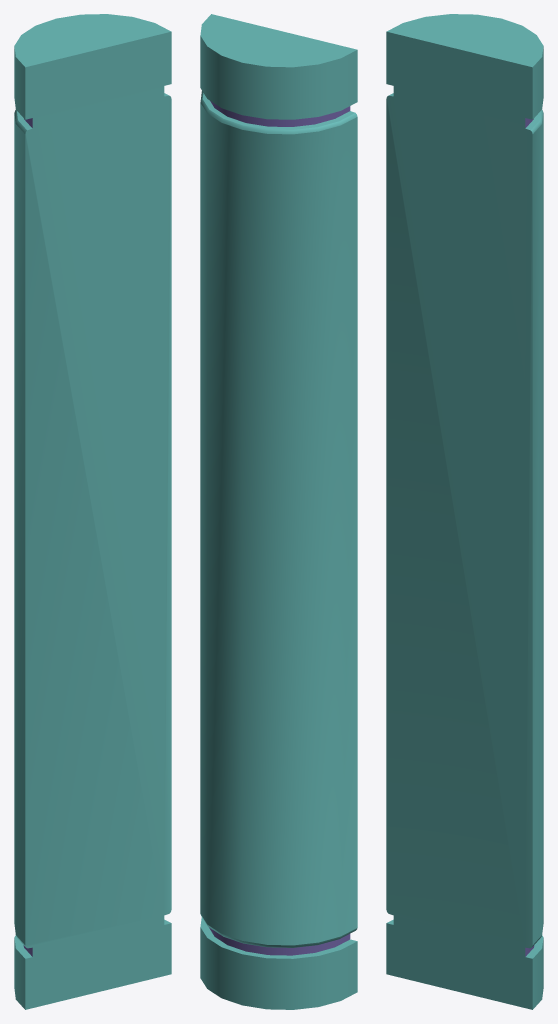
File: 90sArcade_Pillar_Half.fbx
3 renders of one model, left to right at view 1: azimuth 30°, elevation 25°; view 2: azimuth 150°, elevation 25°; view 3: azimuth 330°, elevation 25°, orthographic.
Parts seen in each view (by area): view 1: Pillar_90sArcade.002; view 2: Pillar_90sArcade.002; view 3: Pillar_90sArcade.002.
Part boxes in pixels (x1,y1,x2,y2): Pillar_90sArcade.002: [14, 14, 171, 1009]; Pillar_90sArcade.002: [200, 14, 357, 1009]; Pillar_90sArcade.002: [386, 14, 543, 1009].
Bounding box in the file's own units: 81.19 × 500 × 40.59.
